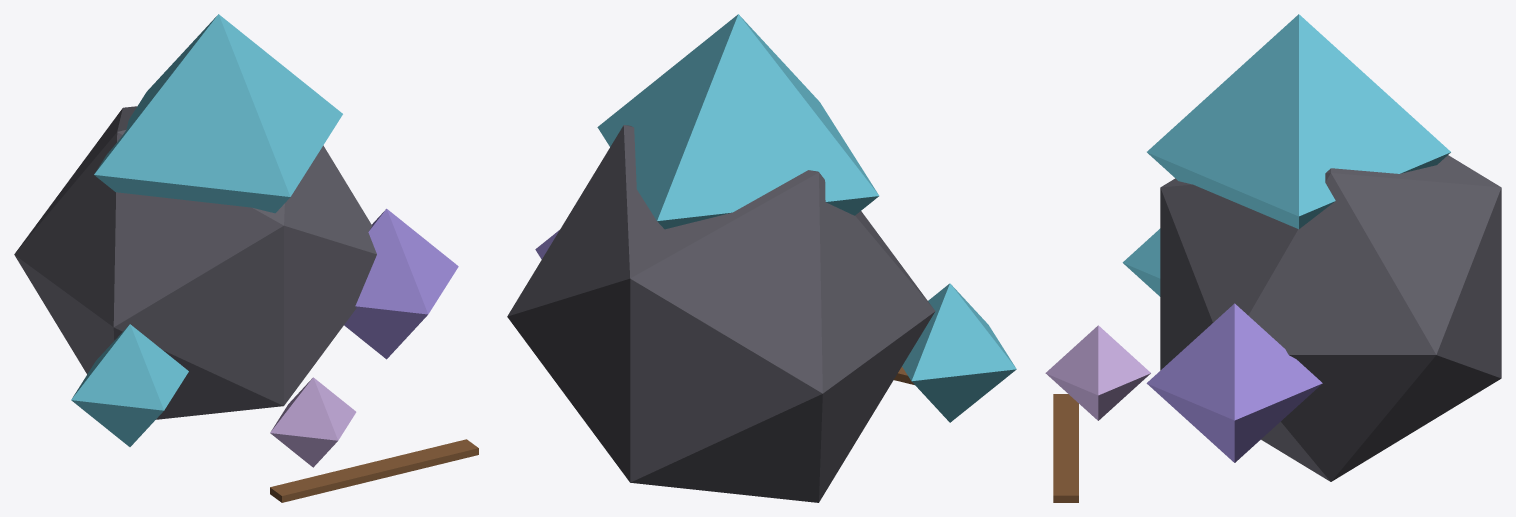
File: crystal-mine.glb
3 views of the same model, side by side, from view 1: azimuth 30°, elevation 25°; view 2: azimuth 150°, elevation 25°; view 3: azimuth 270°, elevation 25° (orthographic). The views are drawn at different scales.
Visible parts, largest first — view 1: crystal_mine; view 2: crystal_mine; view 3: crystal_mine.
Part boxes in pixels (x1,y1,x2,y2): crystal_mine: [14, 14, 478, 502]; crystal_mine: [507, 14, 1016, 502]; crystal_mine: [1045, 14, 1501, 502].
Bounding box in the file's own units: 0.31 × 0.2913 × 0.2843.
